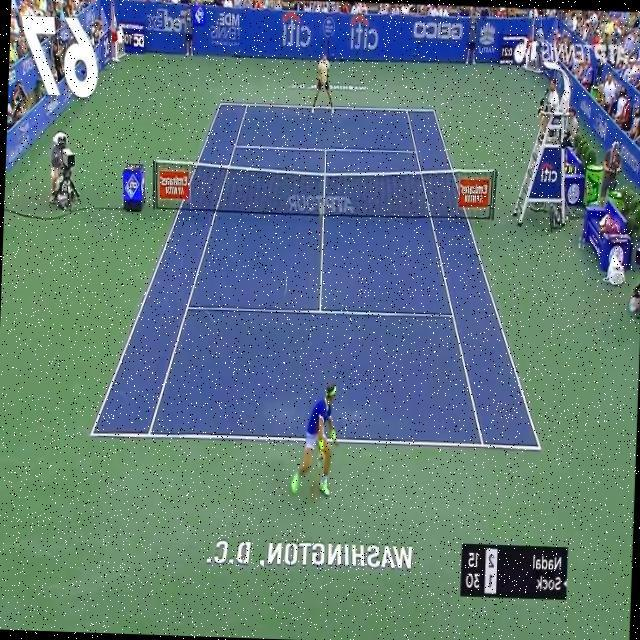court: (89, 96, 553, 452)
net: (150, 156, 498, 224)
player: (288, 379, 340, 498)
